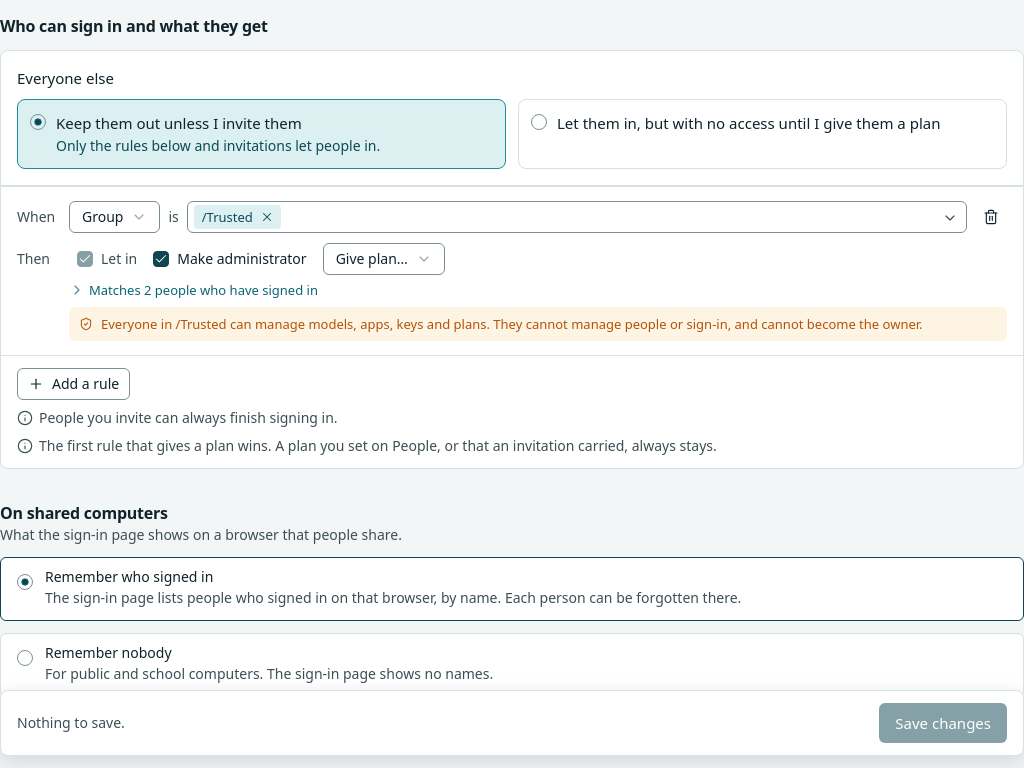
the rule editor › adds a rule that blocks Save until it is finished
(page scrolled)
Click the button "Add a rule".
click(74, 384)  # box left=17, top=368, right=130, bottom=400
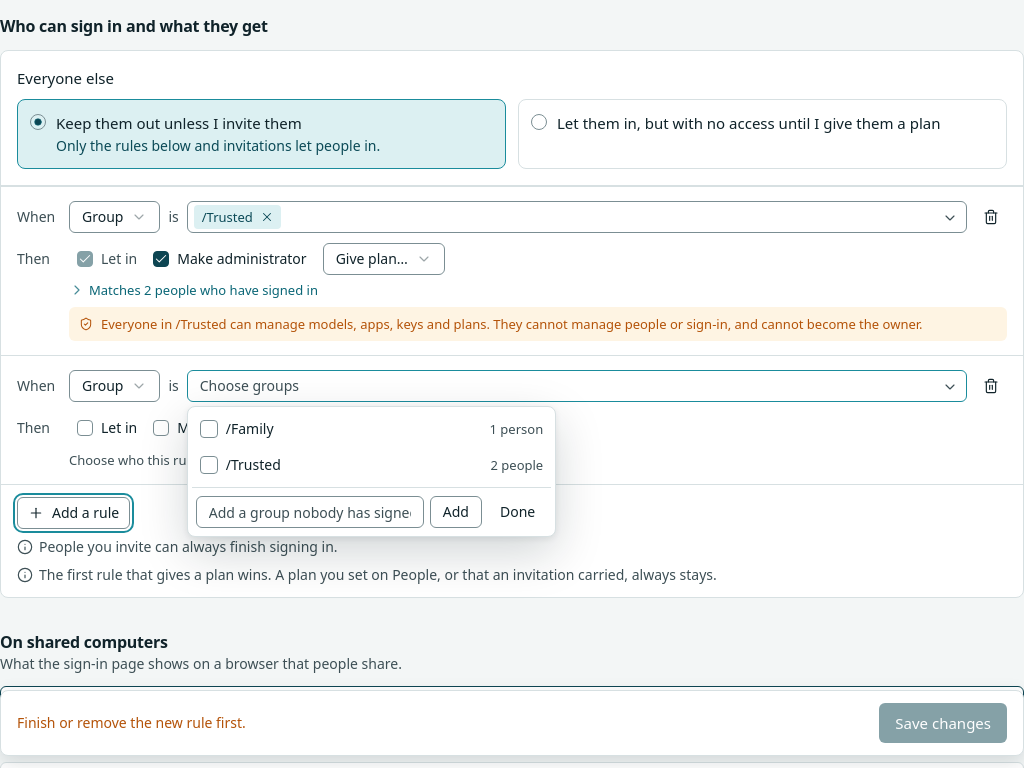
Expected: the button "Save changes" is disabled, left=879, top=703, right=1007, bottom=743
Now the text "Choose who this rule is for and what happens." is shown, box left=69, top=451, right=351, bottom=469
Now the message "Finish or remove the new rule first." is shown, box left=17, top=713, right=246, bottom=732
Remove it: the page is back to nothing to save.
Click the 2nd button named "Remove rule".
click(991, 386)  # box left=975, top=370, right=1007, bottom=402
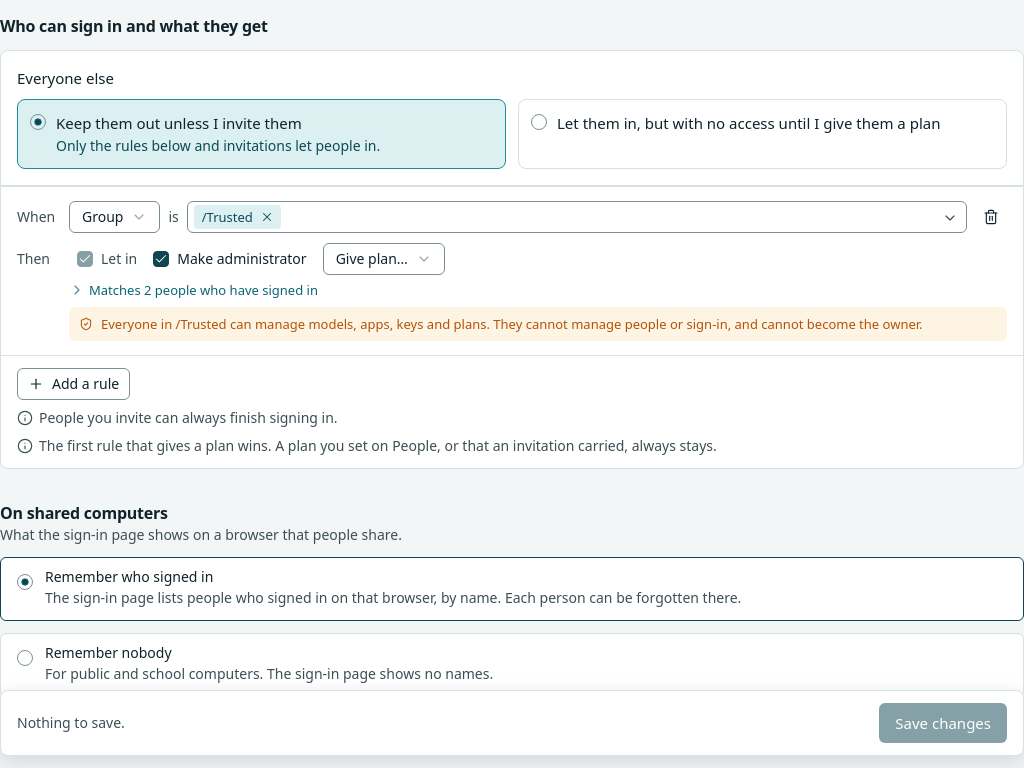
Now the message "Nothing to save." is shown, box left=17, top=713, right=125, bottom=732
